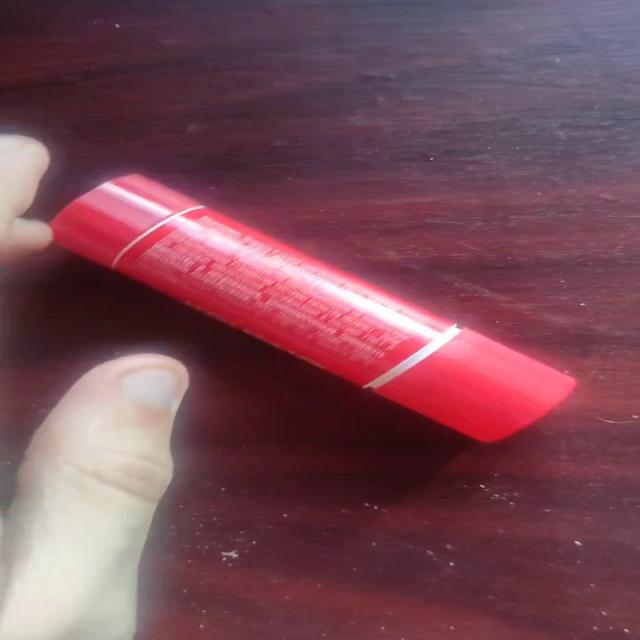glue: (48, 171, 579, 444)
